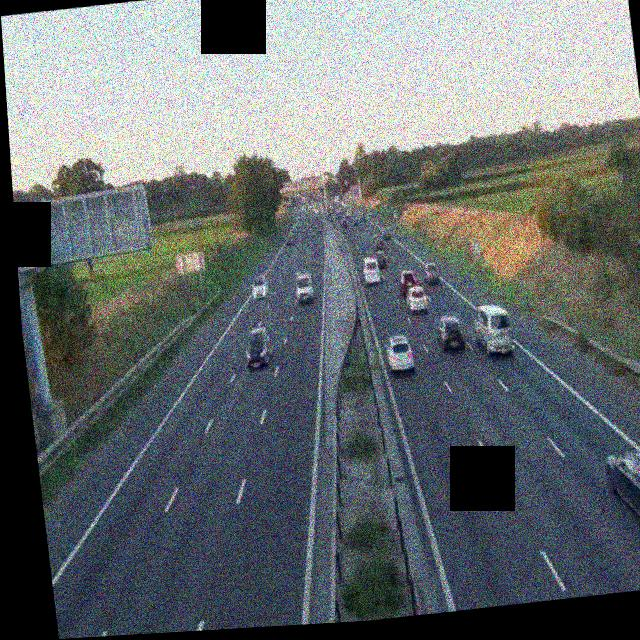car: (605, 445, 640, 547), (471, 301, 516, 357), (244, 323, 274, 369), (434, 315, 467, 353), (385, 334, 415, 373), (404, 282, 429, 314), (293, 271, 315, 305), (362, 257, 382, 286), (398, 269, 418, 293), (251, 274, 270, 299), (422, 263, 441, 287), (374, 248, 388, 267), (373, 234, 385, 252), (381, 227, 391, 240), (340, 216, 350, 228), (285, 234, 294, 246)
